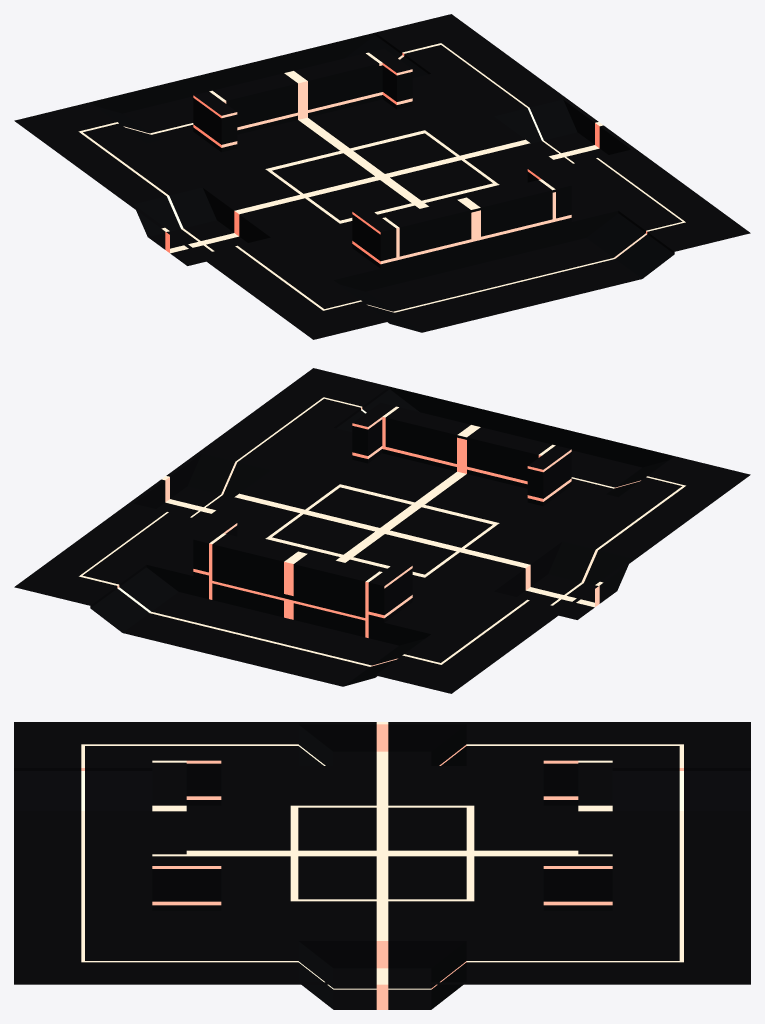
Rendered from fps_map_pvppve_neon.glb.
The picture shows the model from 3 angles, top to bottom: view 1: azimuth 30°, elevation 25°; view 2: azimuth 150°, elevation 25°; view 3: azimuth 270°, elevation 25°; orthographic projection. The views are drawn at different scales.
Visible parts, largest first — view 1: Plane_0; view 2: Plane_0; view 3: Plane_0.
Part boxes in pixels (x1,y1,x2,y2): Plane_0: (14,14,750,339); Plane_0: (14,368,750,693); Plane_0: (14,722,750,1009).
Bounding box in the file's own units: 19.94 × 2.56 × 23.64.
